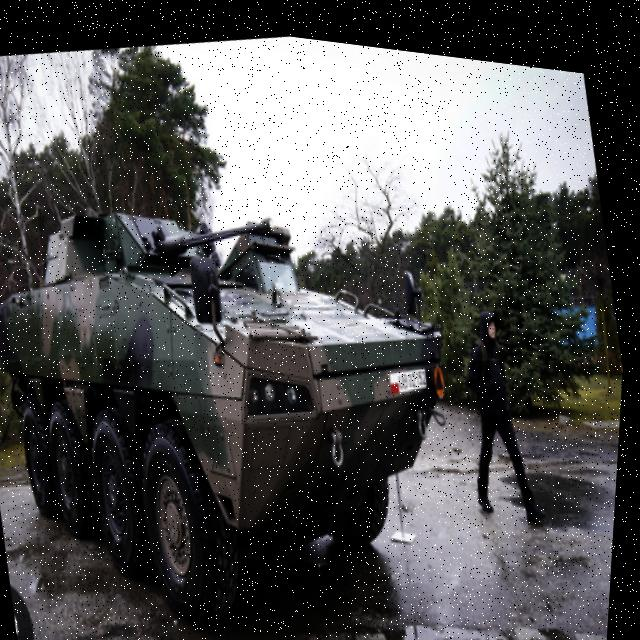MIL_APC: (0, 137, 510, 640)
